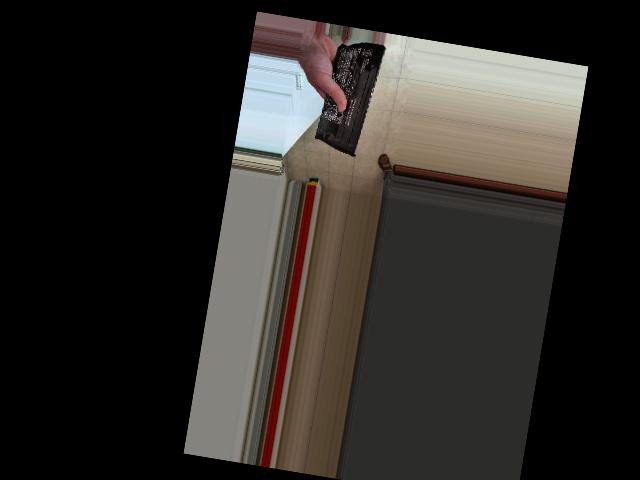chocolate: (316, 39, 383, 161)
